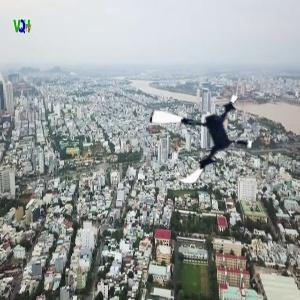drone: (149, 84, 253, 188)
